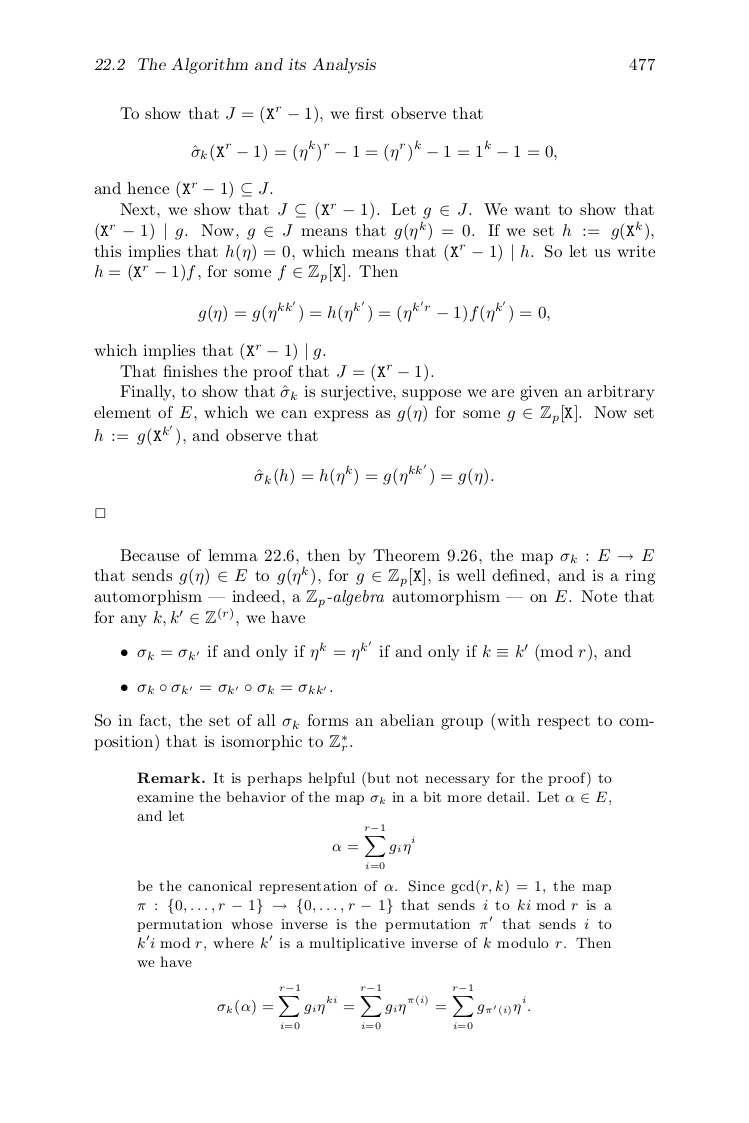formula: (217, 984, 529, 1029), (191, 139, 556, 162), (198, 300, 549, 323), (254, 463, 493, 486), (332, 824, 414, 869)
